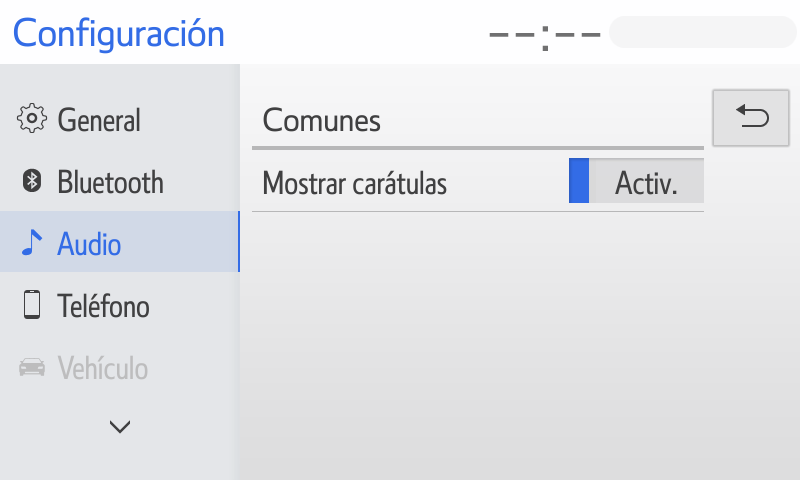touchPart: (246, 138, 707, 214), (21, 286, 170, 333), (707, 85, 795, 160), (12, 162, 181, 199), (10, 96, 145, 141), (104, 417, 135, 436)
untouchPart: (1, 208, 243, 278), (490, 6, 795, 51), (8, 11, 236, 55), (9, 353, 161, 393)
